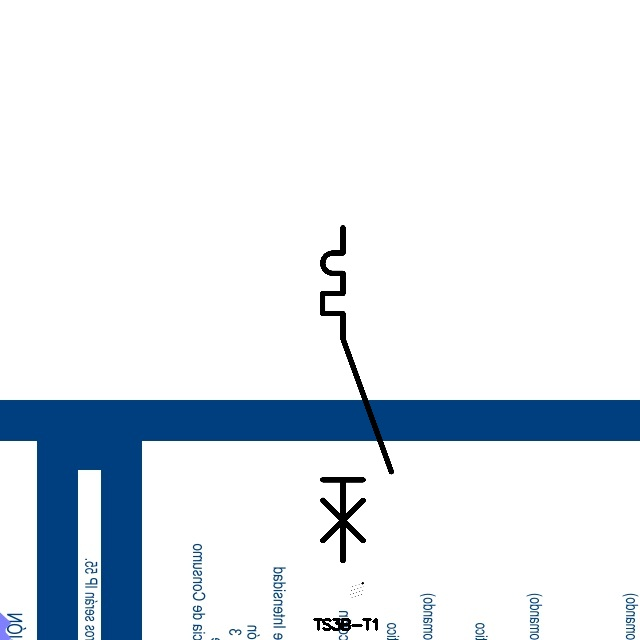interruptor_termomagnetico: (314, 219, 400, 569)
